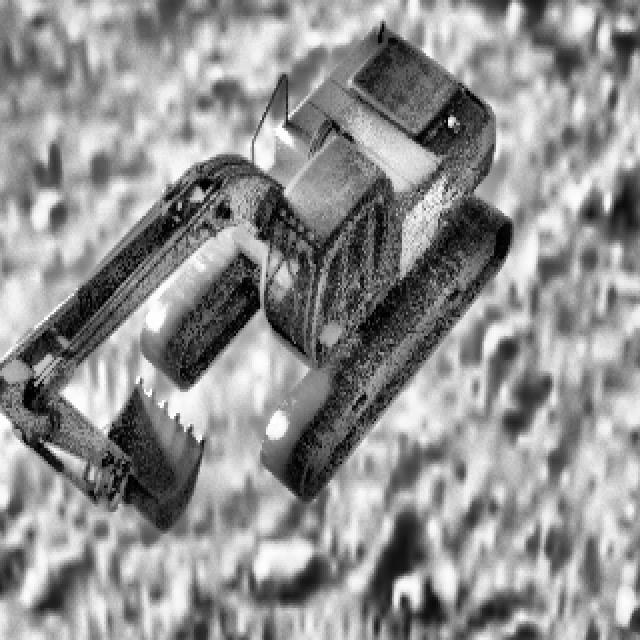excavator: (0, 19, 512, 528)
